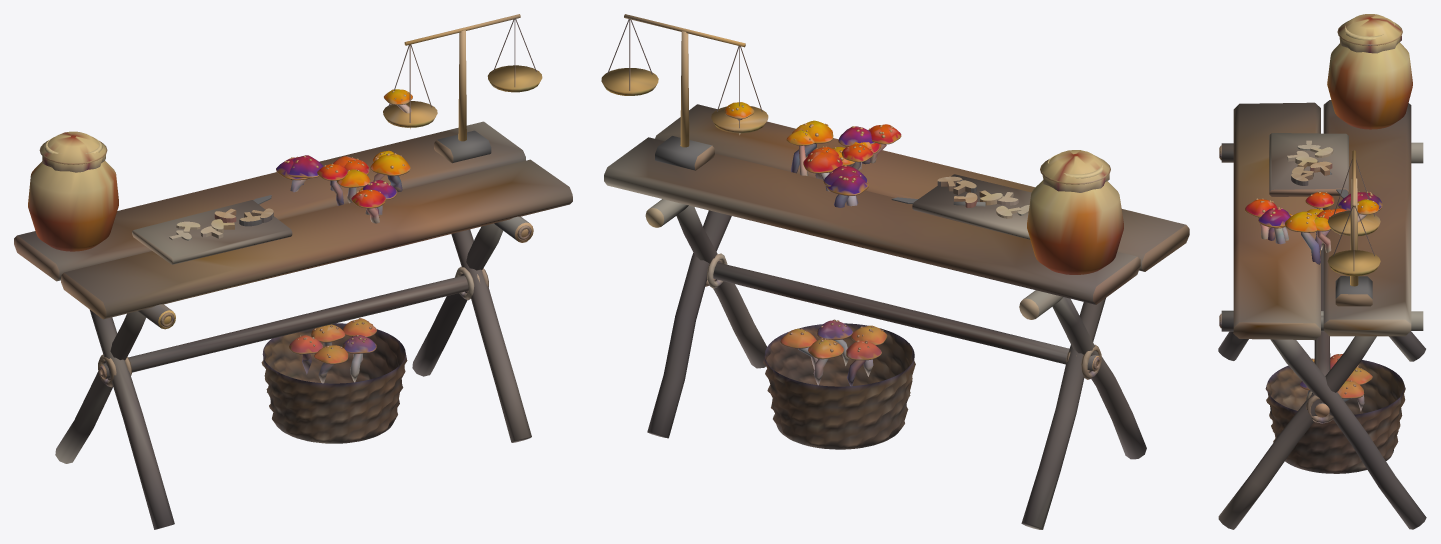
Rendered from kamp_tezgah.glb.
3 renders of one model, left to right at view 1: azimuth 30°, elevation 25°; view 2: azimuth 150°, elevation 25°; view 3: azimuth 270°, elevation 25°, orthographic. The views are drawn at different scales.
Parts seen in each view (by area): view 1: kamp_tezgah_LOD0; view 2: kamp_tezgah_LOD0; view 3: kamp_tezgah_LOD0.
Boxes of the visible parts, bbox=[...] form: kamp_tezgah_LOD0: bbox=[14, 14, 572, 529]; kamp_tezgah_LOD0: bbox=[601, 14, 1189, 529]; kamp_tezgah_LOD0: bbox=[1218, 14, 1426, 529].
Size of what is drawn, in the model's own units: 2.09 by 1.48 by 0.7858.
